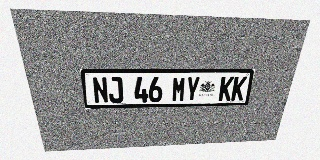4: (134, 77, 148, 103)
6: (149, 77, 163, 102)
J: (107, 77, 123, 103)
K: (218, 76, 234, 101), (231, 76, 247, 101)
M: (172, 77, 186, 102)
N: (92, 77, 109, 103)
Y: (185, 77, 200, 102)
